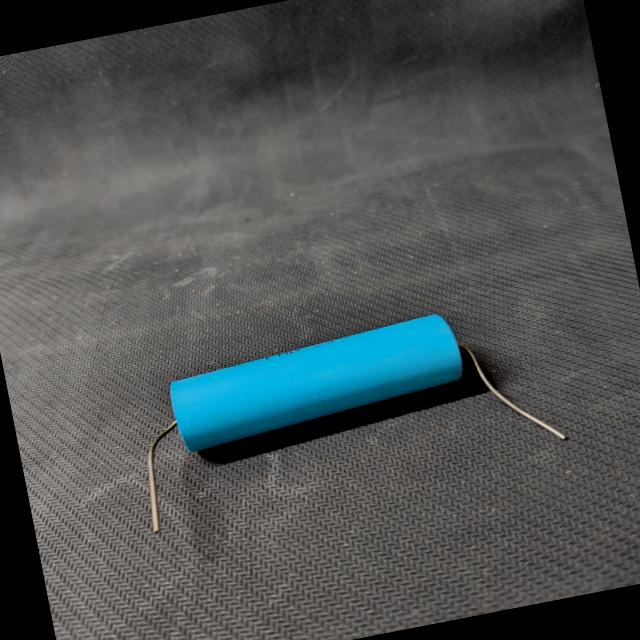capacitor: (102, 280, 584, 544)
